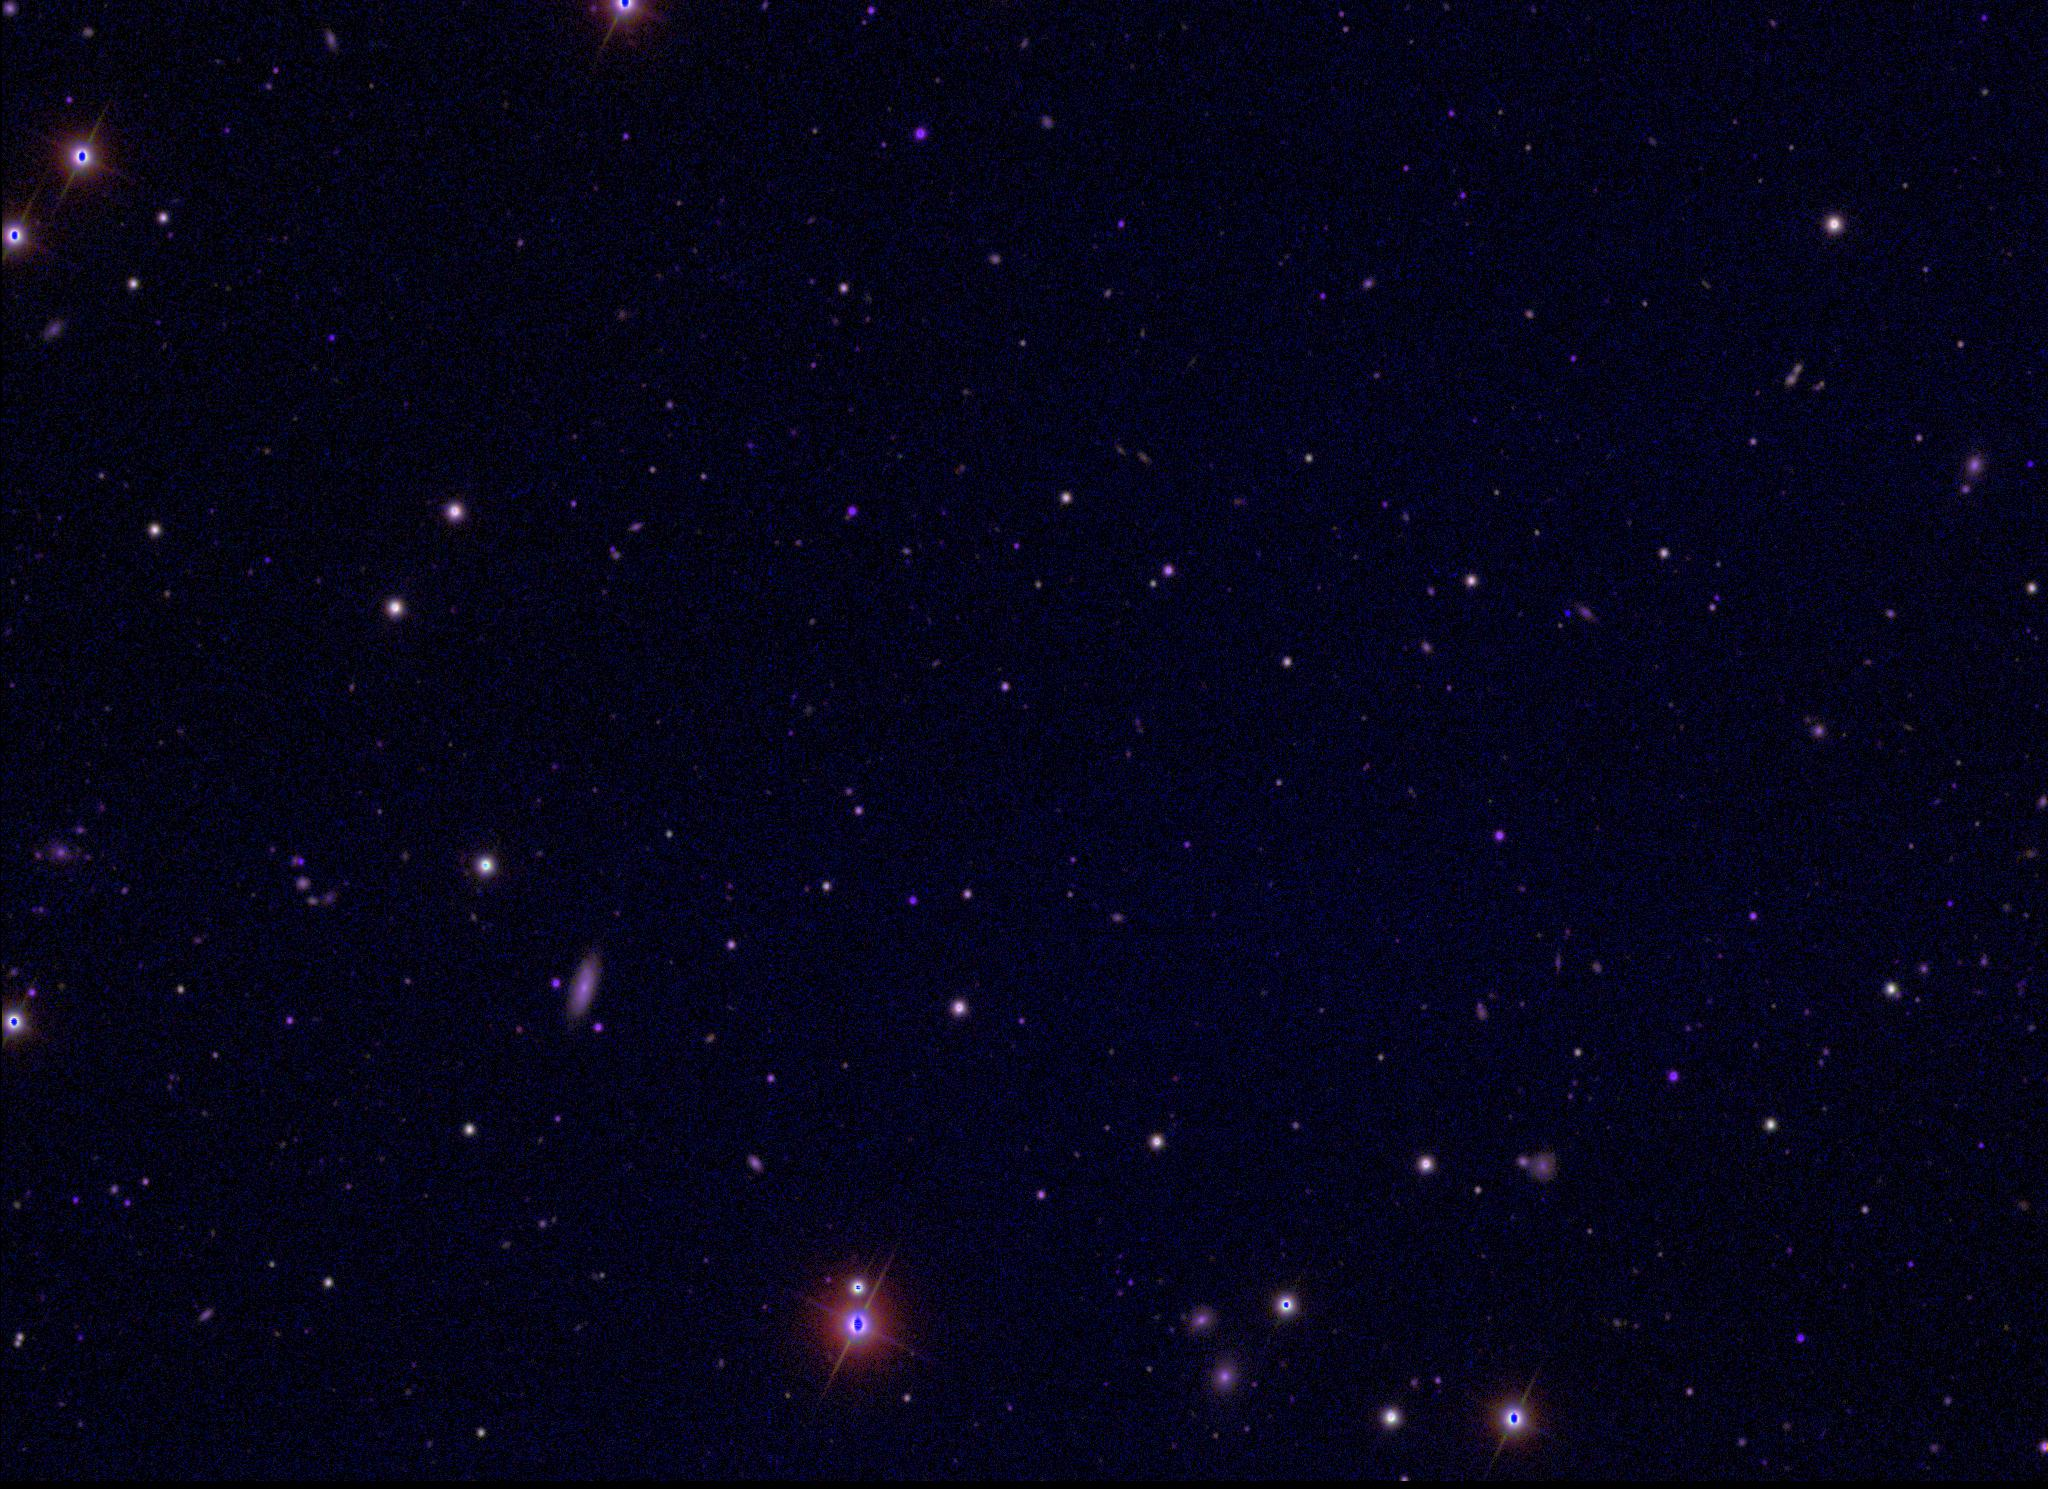L: (1560, 605, 1574, 617)
